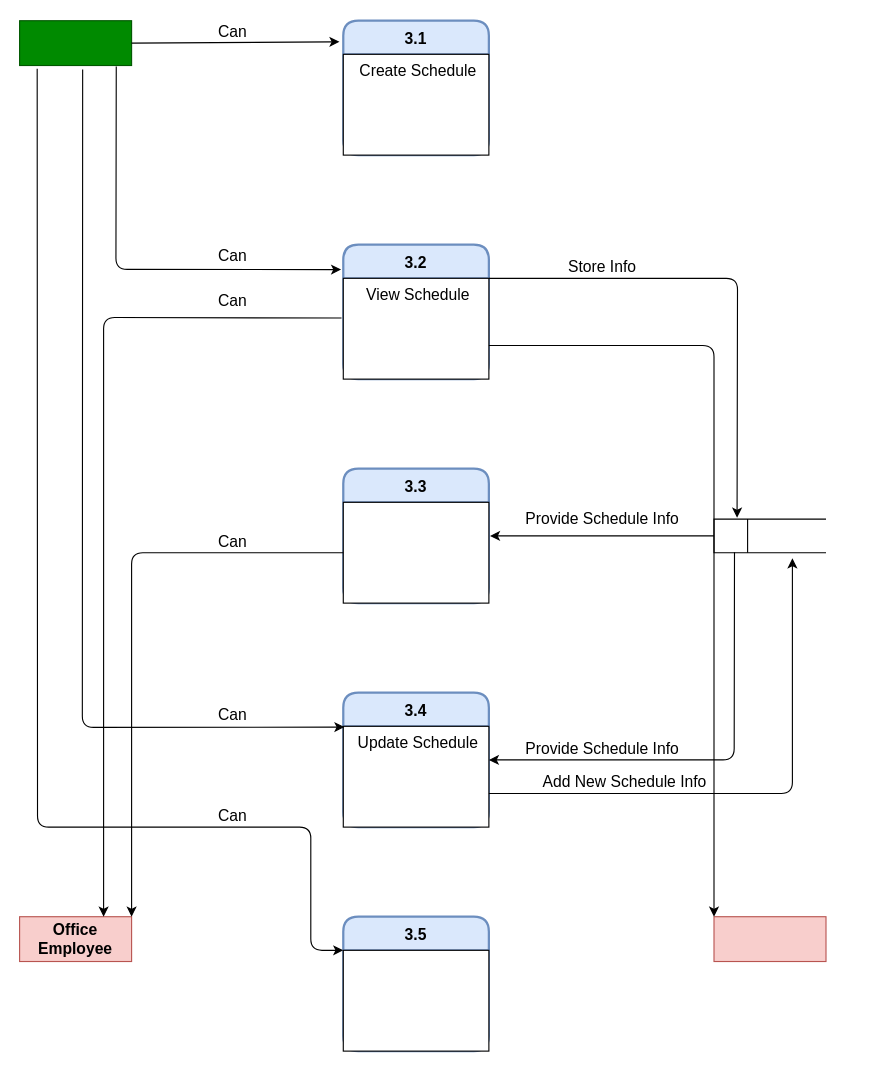
The diagram is 875 pixels wide and 1071 high, and some of its shapes have lost their labels. The box of each missing label's shape, as (x1, y1, x2, y2) in pixels:
Admin: (18, 20, 132, 66)
D1 TSM Database: (713, 518, 826, 553)
Delete Schedule: (342, 949, 489, 1051)
Driver: (713, 916, 826, 962)
Search Schedule: (342, 501, 489, 603)
